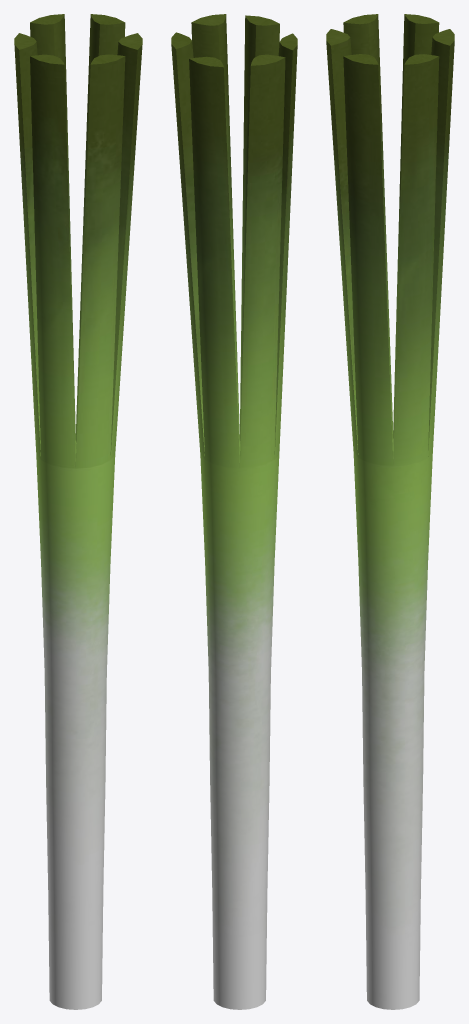
Rendered from leek.glb.
3 views of the same model, side by side, from view 1: azimuth 90°, elevation 25°; view 2: azimuth 210°, elevation 25°; view 3: azimuth 270°, elevation 25° (orthographic).
Parts seen in each view (by area): view 1: Leek__0; view 2: Leek__0; view 3: Leek__0.
Boxes of the visible parts, <box> form: Leek__0: <box>14,14,142,1009</box>; Leek__0: <box>171,14,297,1009</box>; Leek__0: <box>326,14,454,1009</box>.
Bounding box in the file's own units: 10.09 × 88.9 × 10.78.
1 material, 1 textured.
